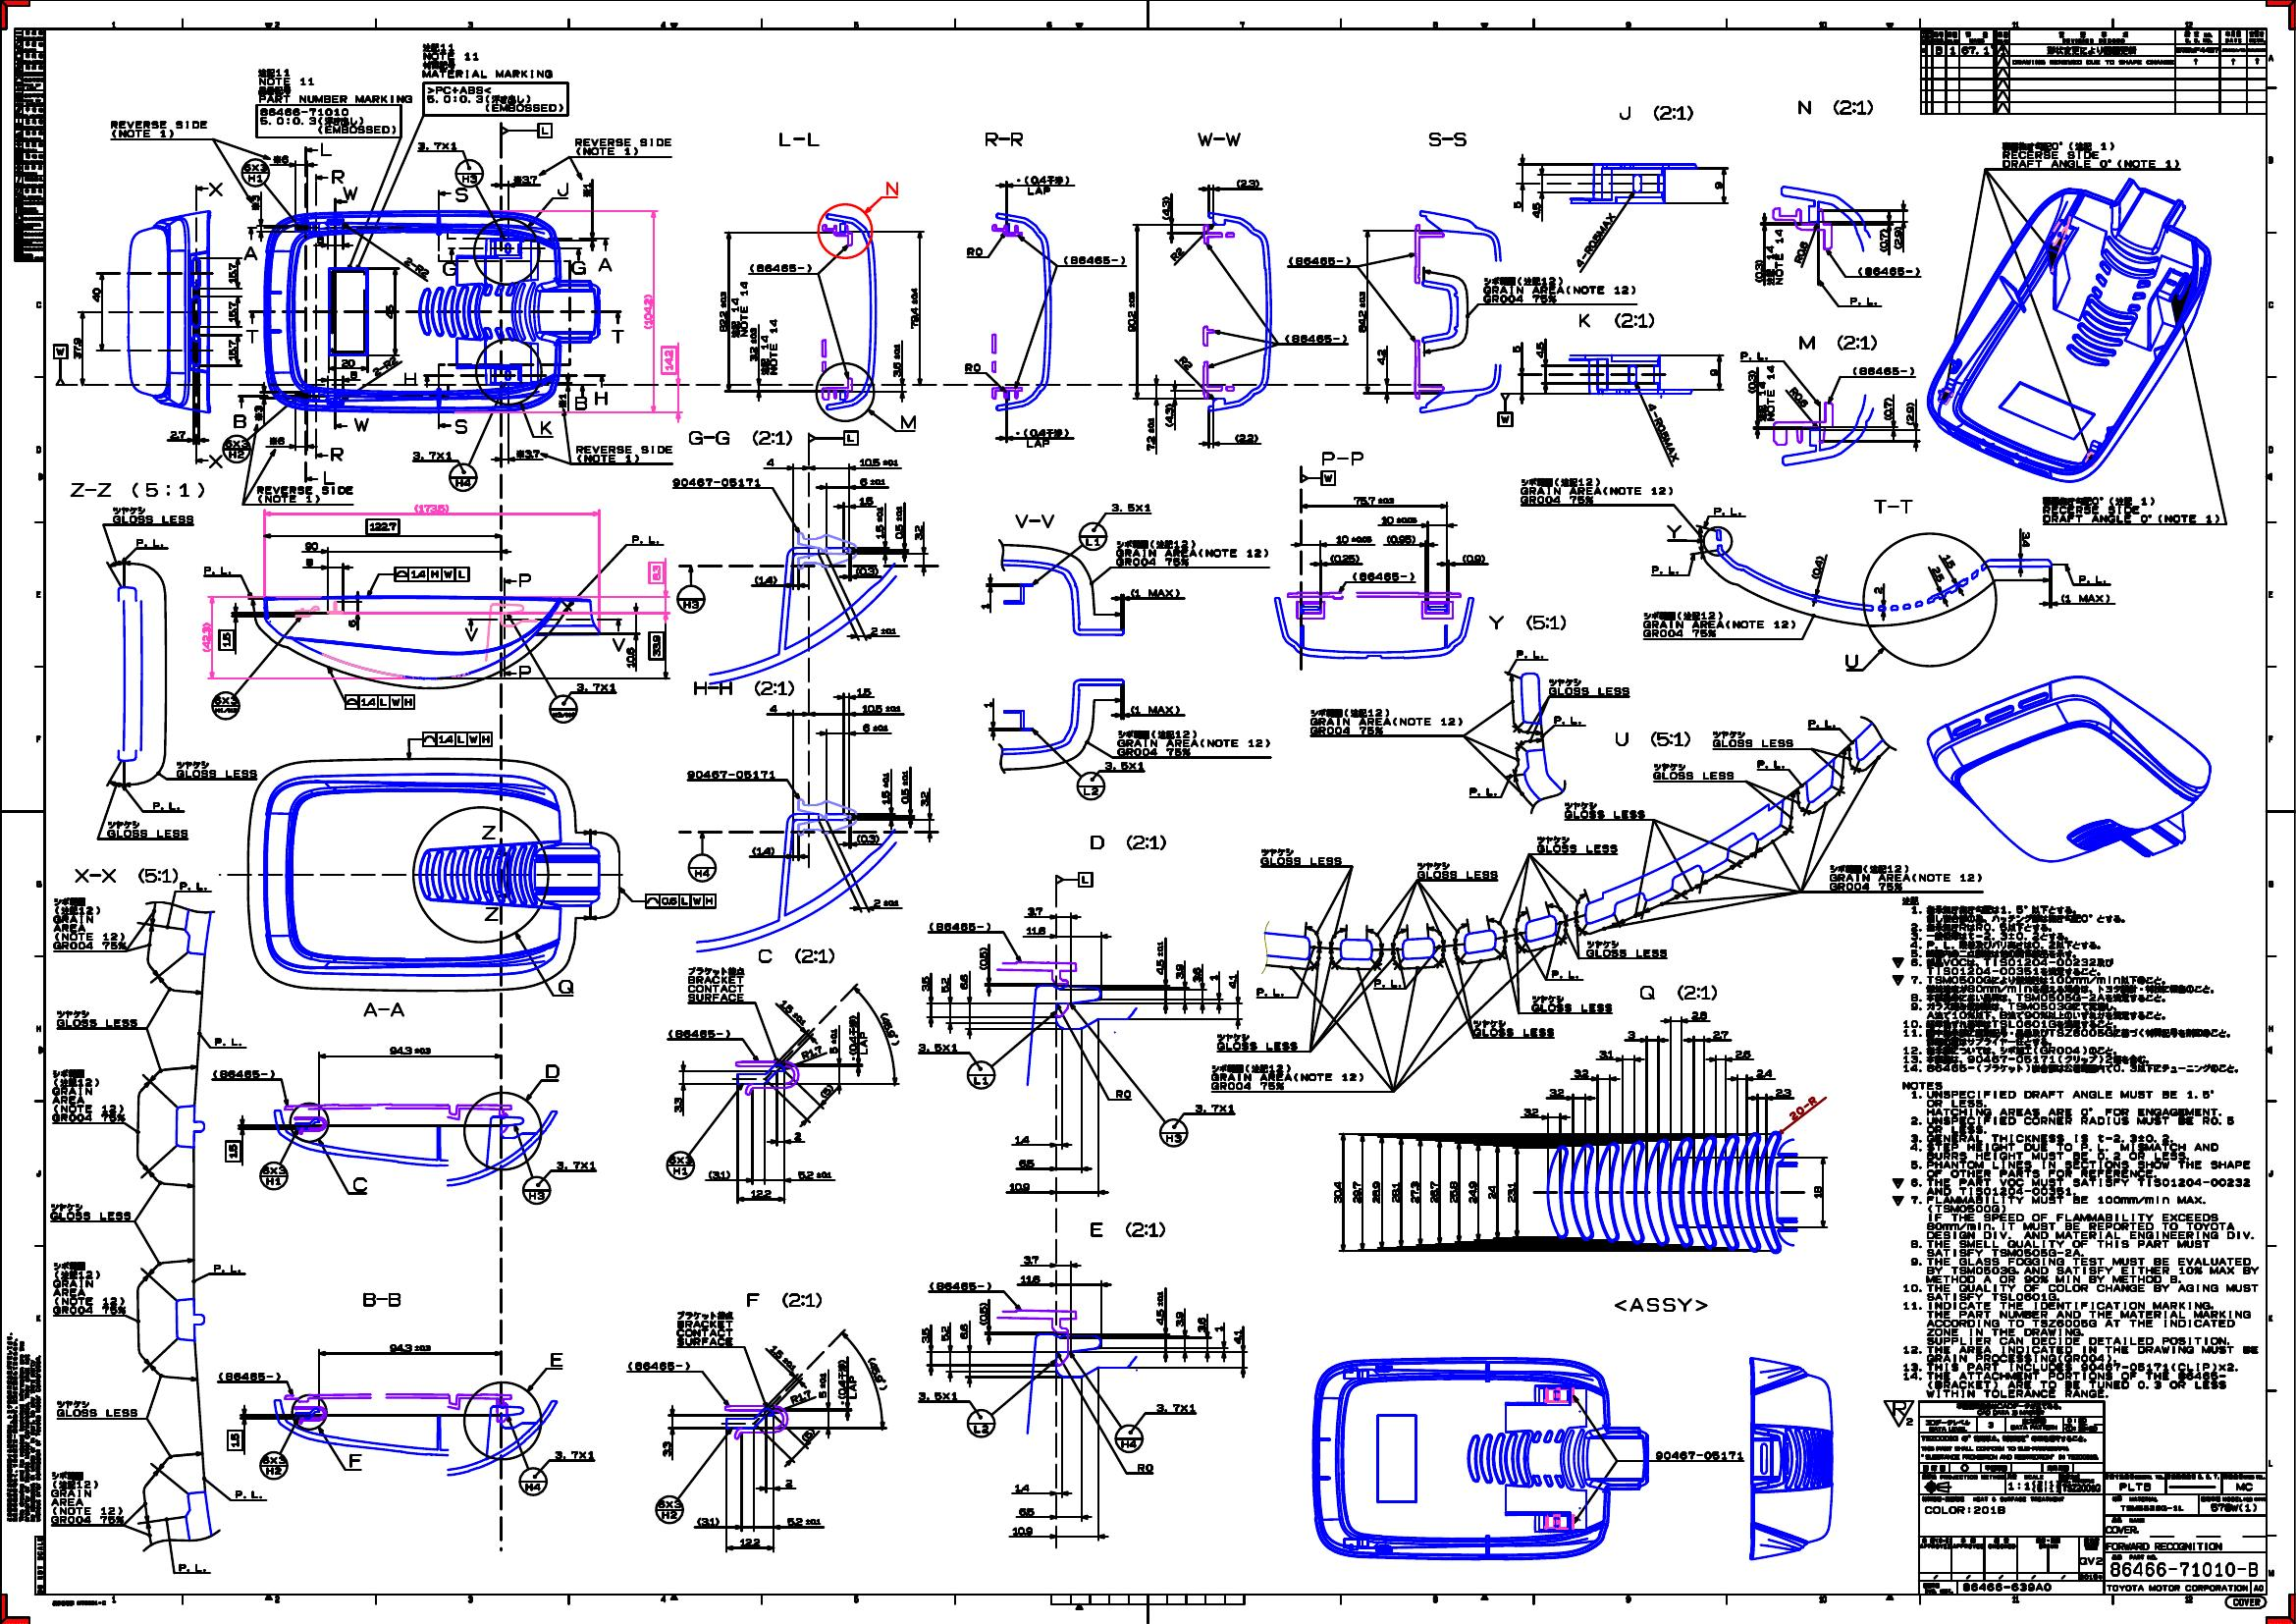anntotation_text: (1894, 1077, 2264, 1397), (1890, 895, 2240, 1076), (4, 1329, 42, 1522), (2040, 492, 2222, 524), (2001, 139, 2180, 169), (423, 81, 569, 114), (256, 104, 401, 137), (1307, 707, 1465, 736), (1209, 1063, 1365, 1093), (1518, 475, 1674, 504), (49, 1258, 126, 1316), (1481, 274, 1635, 302), (1114, 538, 1267, 566), (47, 1067, 123, 1123), (49, 1469, 125, 1526), (1827, 863, 1985, 889), (1116, 729, 1272, 756), (1641, 613, 1797, 640), (53, 896, 126, 951), (255, 84, 413, 104), (1607, 1292, 1713, 1320), (70, 480, 207, 501), (420, 60, 555, 79), (683, 427, 791, 448), (72, 865, 179, 886), (690, 678, 794, 700), (676, 1309, 734, 1346), (107, 118, 207, 139), (255, 483, 355, 504), (687, 967, 745, 1002), (1635, 979, 1718, 1004), (743, 1287, 822, 1311), (1576, 308, 1655, 332), (1486, 610, 1565, 634), (176, 758, 260, 780), (54, 1396, 139, 1418), (574, 137, 673, 156), (574, 445, 673, 464), (47, 1199, 130, 1222), (1087, 1218, 1170, 1241), (1795, 97, 1876, 120), (1546, 675, 1630, 696), (1713, 728, 1797, 749), (1416, 859, 1498, 881), (1613, 729, 1693, 750), (1613, 102, 1693, 123), (1797, 332, 1876, 353), (54, 1009, 141, 1028), (1560, 800, 1646, 819), (111, 504, 195, 524), (757, 947, 840, 967), (105, 819, 188, 838), (1216, 1032, 1298, 1051), (1530, 993, 1613, 1012), (1472, 1018, 1553, 1037), (1258, 847, 1346, 865), (1648, 763, 1736, 780), (1585, 939, 1667, 956), (1534, 835, 1616, 852), (1014, 172, 1072, 195), (1089, 833, 1172, 849), (1651, 1448, 1743, 1462), (1012, 429, 1072, 450), (845, 1014, 871, 1062), (673, 476, 759, 490), (420, 40, 481, 60), (1195, 127, 1245, 149), (729, 279, 748, 339), (687, 768, 780, 780), (255, 67, 320, 84), (1758, 364, 1778, 422), (1881, 1397, 1915, 1431), (343, 692, 413, 708), (422, 731, 492, 747), (964, 1058, 996, 1091), (838, 1357, 859, 1406), (761, 318, 778, 376), (1765, 228, 1783, 286), (964, 1408, 996, 1439), (1114, 1422, 1144, 1455), (220, 432, 253, 462), (1625, 427, 1704, 439), (1061, 253, 1130, 267), (1871, 496, 1917, 517), (358, 1290, 408, 1309), (1075, 520, 1107, 550), (548, 694, 580, 724), (258, 1160, 288, 1192), (218, 1369, 285, 1383), (393, 568, 469, 580), (808, 429, 861, 446), (1423, 130, 1470, 149), (625, 1359, 690, 1373), (928, 1278, 993, 1292), (748, 260, 813, 274), (211, 689, 241, 719), (516, 1466, 546, 1496), (1158, 1116, 1188, 1146), (239, 156, 269, 186), (668, 1026, 731, 1040), (1075, 772, 1107, 800), (1012, 510, 1058, 529), (453, 160, 487, 186), (645, 895, 715, 907), (982, 127, 1026, 146), (676, 584, 704, 613), (520, 1176, 550, 1204), (653, 1494, 683, 1522), (448, 464, 478, 492), (666, 1149, 692, 1181), (775, 130, 822, 148), (1318, 450, 1365, 468), (1857, 264, 1924, 276), (362, 1000, 404, 1019), (32, 1536, 46, 1594), (211, 1067, 276, 1079), (1563, 234, 1628, 246), (1850, 364, 1915, 376), (258, 1450, 286, 1478), (1130, 701, 1182, 715), (49, 1598, 107, 1610), (1349, 571, 1416, 582), (689, 854, 715, 881), (501, 123, 550, 137), (2057, 592, 2113, 605), (928, 923, 993, 933), (1288, 255, 1351, 265), (1130, 587, 1182, 599), (1056, 870, 1093, 888), (1298, 469, 1335, 487), (53, 344, 69, 385), (1495, 392, 1513, 425), (1284, 332, 1349, 341), (2222, 1596, 2268, 1608), (1787, 1100, 1822, 1116), (1839, 650, 1864, 671), (1254, 984, 1288, 998), (1737, 348, 1771, 362), (2075, 573, 2112, 585), (1664, 522, 1686, 541), (176, 1559, 211, 1571), (1806, 717, 1841, 729), (179, 879, 207, 893), (1551, 967, 1579, 981), (631, 531, 662, 543), (1372, 975, 1404, 988), (401, 260, 432, 272), (481, 905, 499, 926), (555, 977, 576, 995), (213, 1037, 248, 1048), (1846, 295, 1881, 306), (234, 1487, 264, 1499), (1514, 647, 1544, 659), (1555, 714, 1583, 726), (480, 823, 497, 842), (230, 411, 248, 431), (202, 564, 234, 575), (213, 1262, 244, 1272), (367, 360, 399, 371), (1650, 564, 1681, 575), (1470, 784, 1497, 796), (1757, 758, 1783, 770), (546, 1060, 560, 1083), (135, 538, 165, 548), (153, 800, 183, 810), (439, 260, 457, 278), (571, 260, 588, 278), (596, 257, 613, 274), (353, 417, 371, 434), (898, 415, 917, 431), (453, 417, 469, 436), (1713, 506, 1746, 515), (516, 571, 532, 589), (346, 1452, 364, 1468), (244, 329, 260, 346), (608, 327, 624, 344), (592, 390, 610, 406), (207, 450, 223, 468), (548, 1350, 562, 1369), (455, 186, 469, 206), (464, 626, 480, 642), (611, 636, 627, 652), (353, 1176, 369, 1192), (341, 185, 357, 200), (573, 395, 588, 411), (207, 181, 221, 199), (884, 178, 898, 195), (329, 445, 343, 462), (401, 371, 416, 385), (516, 664, 532, 678), (242, 244, 258, 258), (318, 141, 332, 156), (330, 169, 344, 185), (321, 469, 336, 485), (539, 418, 552, 436), (557, 183, 569, 197)
dimension_text: (386, 1042, 432, 1056), (416, 139, 458, 153), (553, 1446, 596, 1461), (1103, 758, 1145, 772), (766, 1350, 803, 1366), (917, 1388, 957, 1403), (859, 701, 905, 714), (413, 501, 451, 515), (908, 286, 921, 330), (411, 450, 455, 462), (1351, 496, 1395, 508), (857, 455, 901, 468), (365, 517, 399, 533), (1154, 1401, 1196, 1413), (1108, 501, 1151, 513), (1335, 533, 1372, 547), (641, 292, 653, 332), (782, 1513, 822, 1526), (1193, 1102, 1233, 1114), (661, 346, 678, 374), (646, 631, 664, 659), (1356, 288, 1367, 334), (1126, 290, 1137, 334), (717, 290, 727, 334), (386, 1341, 430, 1352), (915, 1040, 959, 1051), (1154, 939, 1166, 975), (815, 1371, 829, 1403), (553, 1158, 596, 1169), (884, 1012, 898, 1044), (1379, 513, 1421, 524), (199, 620, 213, 652), (891, 343, 903, 378), (871, 1359, 885, 1388), (1386, 533, 1416, 547), (750, 573, 780, 587), (778, 1005, 812, 1018), (892, 504, 903, 543), (796, 1169, 833, 1179), (227, 1429, 244, 1450), (880, 770, 891, 805), (574, 682, 617, 691), (1154, 1290, 1165, 1325), (1145, 417, 1156, 452), (1159, 195, 1172, 223), (736, 1534, 764, 1547), (789, 1388, 817, 1401), (1785, 392, 1813, 404), (218, 631, 235, 650), (827, 1026, 840, 1053), (901, 770, 910, 807), (1460, 550, 1486, 562), (870, 626, 896, 638), (854, 564, 880, 576), (875, 504, 884, 541), (799, 1048, 824, 1060), (1007, 1179, 1031, 1192), (1409, 1179, 1421, 1204), (1484, 1179, 1497, 1204), (227, 1141, 241, 1162), (917, 789, 931, 810), (861, 721, 889, 731), (859, 478, 887, 489), (978, 946, 989, 974), (1797, 237, 1808, 265), (752, 844, 775, 856), (624, 647, 636, 670), (1024, 923, 1047, 935), (515, 448, 541, 459), (696, 1515, 722, 1526), (706, 1169, 733, 1179), (748, 1188, 775, 1199), (1878, 228, 1888, 255), (1753, 257, 1764, 283), (1233, 432, 1260, 443), (956, 972, 970, 991), (1330, 554, 1360, 562), (227, 299, 237, 323), (227, 262, 237, 286), (978, 1301, 989, 1325), (856, 833, 880, 844), (1195, 1313, 1207, 1334), (1332, 1181, 1342, 1206), (1351, 1179, 1361, 1204), (1370, 1179, 1381, 1204), (1391, 1179, 1402, 1204), (1428, 1179, 1439, 1204), (1448, 1179, 1458, 1204), (1467, 1179, 1477, 1204), (1505, 1179, 1516, 1204), (1892, 225, 1903, 250), (1906, 401, 1917, 425), (1746, 367, 1757, 392), (1163, 404, 1173, 429), (871, 898, 899, 907), (1711, 1026, 1729, 1040), (227, 337, 237, 360), (253, 402, 265, 422), (167, 427, 186, 439), (249, 192, 262, 211), (957, 1322, 970, 1341), (650, 562, 662, 582), (1173, 1308, 1186, 1327), (1017, 1156, 1036, 1169), (1191, 965, 1203, 984), (1570, 1067, 1590, 1079), (1774, 1086, 1794, 1098), (1732, 1048, 1751, 1060), (1931, 564, 1943, 584), (2020, 529, 2032, 548), (1375, 346, 1388, 366), (72, 334, 81, 360), (513, 174, 539, 183), (1883, 395, 1892, 422), (661, 1438, 671, 1459), (1530, 199, 1541, 220), (1237, 178, 1258, 188), (963, 360, 980, 373), (383, 302, 395, 320), (90, 286, 102, 304), (272, 153, 290, 165), (798, 1429, 815, 1441), (817, 1086, 834, 1098), (1116, 1086, 1133, 1098), (1755, 1067, 1773, 1079), (1690, 1009, 1708, 1021), (1815, 554, 1823, 578), (1945, 552, 1957, 569), (964, 246, 984, 257), (921, 1327, 931, 1346), (1021, 1253, 1040, 1264), (1017, 1506, 1036, 1517), (1012, 1134, 1031, 1144), (1173, 961, 1184, 981), (1548, 1088, 1567, 1098), (1534, 339, 1544, 359), (1175, 359, 1195, 369), (913, 522, 922, 545), (267, 434, 283, 446), (1137, 1462, 1152, 1475), (304, 540, 320, 552), (919, 975, 931, 991), (557, 392, 567, 410), (581, 181, 592, 199), (1019, 1274, 1040, 1283), (671, 1095, 682, 1113), (856, 685, 873, 696), (857, 496, 875, 506), (1026, 905, 1043, 916), (782, 1476, 796, 1489), (978, 599, 991, 613), (1233, 1327, 1242, 1346), (1012, 1526, 1031, 1534), (1597, 1049, 1616, 1058), (339, 357, 355, 367), (1014, 1482, 1029, 1492), (940, 975, 950, 991), (1209, 968, 1219, 984), (1523, 1106, 1539, 1116), (940, 1323, 949, 1341), (1230, 972, 1238, 990), (1166, 250, 1184, 258), (1212, 1322, 1224, 1334), (982, 698, 994, 710), (791, 1130, 805, 1141), (766, 703, 780, 714), (1813, 1185, 1822, 1200), (1873, 585, 1885, 596), (1511, 344, 1523, 355), (348, 371, 358, 381), (764, 457, 775, 468), (304, 557, 314, 568), (1625, 1028, 1635, 1039), (1709, 366, 1718, 378), (1715, 179, 1723, 192), (348, 617, 357, 627), (1513, 199, 1521, 207)
object: (1263, 722, 1885, 960), (1929, 178, 2215, 485), (1309, 1355, 1648, 1562), (262, 772, 603, 977), (264, 211, 603, 415), (1925, 673, 2213, 863), (1546, 1130, 1802, 1257), (692, 796, 899, 953), (706, 531, 899, 689), (1771, 186, 1876, 466), (172, 907, 218, 1541), (1711, 529, 2054, 612), (262, 594, 599, 677), (998, 555, 1126, 758), (272, 1392, 557, 1476), (272, 1104, 560, 1186), (1412, 207, 1502, 413), (125, 209, 213, 417), (994, 960, 1138, 1084), (996, 1309, 1138, 1434), (1750, 1355, 1836, 1561), (1202, 211, 1274, 413), (1274, 592, 1476, 663), (989, 211, 1052, 411), (819, 213, 878, 413), (1516, 671, 1563, 798), (1565, 163, 1699, 206), (114, 585, 146, 763), (1565, 353, 1695, 395), (724, 1401, 791, 1441), (734, 1058, 799, 1093)
title_block: (1918, 1401, 2266, 1596), (1922, 28, 2268, 114), (14, 26, 46, 262)
